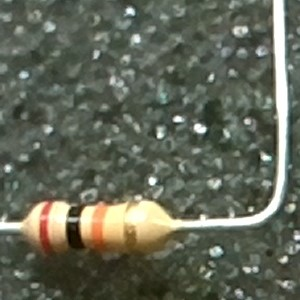black_band: (63, 202, 86, 252)
gold_band: (118, 198, 144, 257)
orange_band: (89, 203, 111, 253)
red_band: (38, 198, 56, 256)
